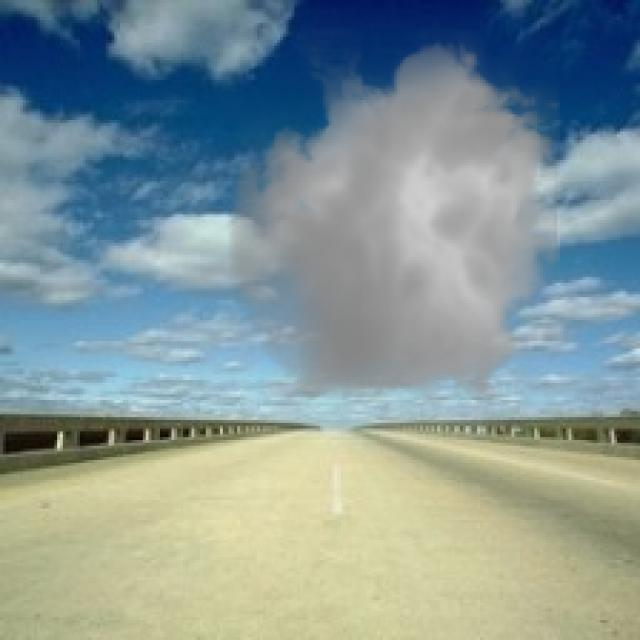Smoke: (217, 28, 574, 420)
